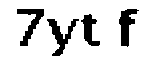7: (13, 6, 44, 49)
f: (115, 4, 146, 48)
t: (80, 12, 102, 50)
y: (47, 15, 78, 60)
